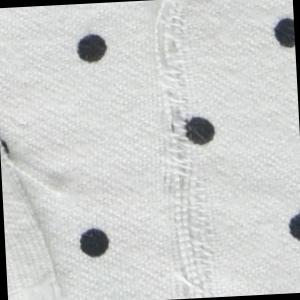Damage: (137, 1, 222, 300), (1, 132, 76, 300)
